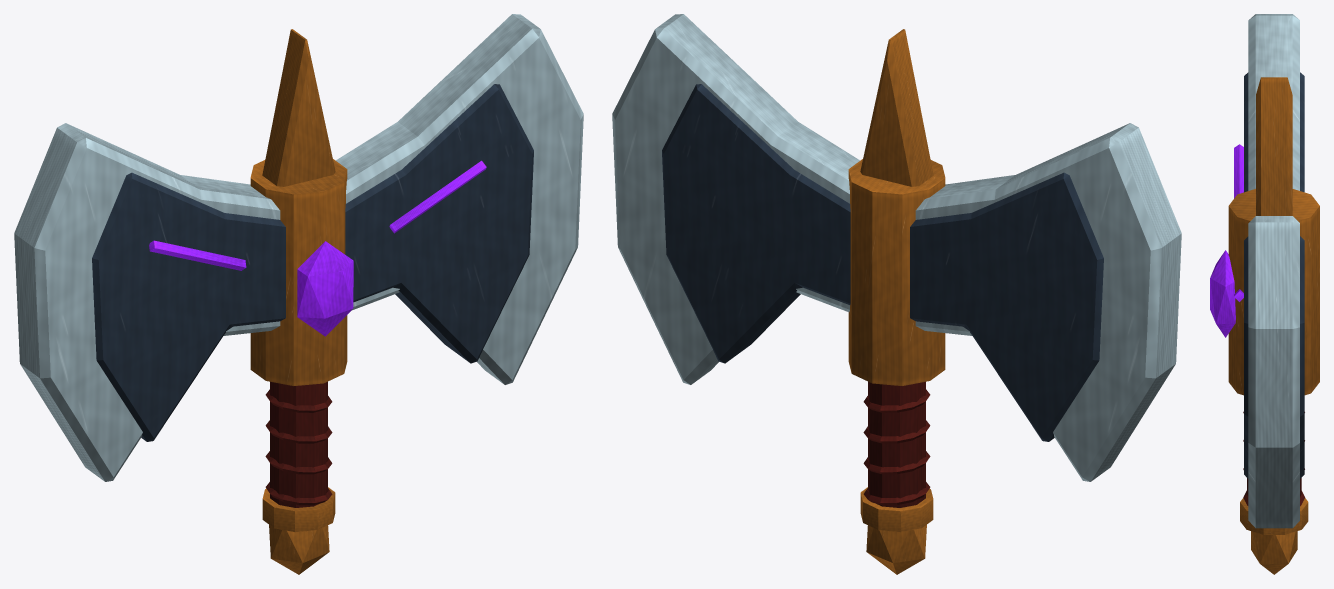
Rendered from axe-t4.glb.
3 views of the same model, side by side, from view 1: azimuth 30°, elevation 25°; view 2: azimuth 150°, elevation 25°; view 3: azimuth 270°, elevation 25° (orthographic). The views are drawn at different scales.
Parts seen in each view (by area): view 1: Axe dark inset.001, Axe dark inset, Crescent cutting edge.001, Crescent cutting edge, Axe socket, Axe crown, Leather grip, Void socket, Faceted pommel, Grip ferrule, Axe inlay.001, Axe inlay; view 2: Axe dark inset, Axe dark inset.001, Crescent cutting edge.001, Crescent cutting edge, Axe socket, Axe crown, Leather grip, Faceted pommel, Grip ferrule; view 3: Crescent cutting edge, Axe socket, Crescent cutting edge.001, Axe crown, Axe dark inset, Void socket, Faceted pommel, Axe dark inset.001, Grip ferrule, Axe inlay.001.
Boxes of the visible parts, x1,y1,x2,y2 form: Axe dark inset.001: (92,172,285,441); Axe dark inset: (345,84,533,363); Crescent cutting edge.001: (14,123,280,481); Crescent cutting edge: (336,14,583,384); Axe socket: (250,159,347,385); Axe crown: (262,29,335,186); Leather grip: (270,381,327,507); Void socket: (297,241,353,336); Faceted pommel: (269,525,329,574); Grip ferrule: (262,487,335,532); Axe inlay.001: (149,240,246,270); Axe inlay: (389,160,486,233); Axe dark inset: (662,84,850,363); Axe dark inset.001: (910,172,1103,441); Crescent cutting edge.001: (915,123,1181,481); Crescent cutting edge: (612,14,859,384); Axe socket: (848,159,945,385); Axe crown: (860,29,933,186); Leather grip: (868,381,925,507); Faceted pommel: (866,525,926,574); Grip ferrule: (860,487,933,532); Crescent cutting edge: (1248,216,1299,528); Axe socket: (1228,189,1319,395); Crescent cutting edge.001: (1248,14,1299,190); Axe crown: (1256,77,1292,215); Axe dark inset: (1244,236,1304,478); Void socket: (1210,250,1235,337); Faceted pommel: (1251,531,1297,574); Axe dark inset.001: (1244,72,1304,192); Grip ferrule: (1240,498,1308,534); Axe inlay.001: (1234,144,1243,198).
Bounding box in the file's own units: 0.9577 × 0.9 × 0.1801.
Materials: 1 (1 with a texture image).
